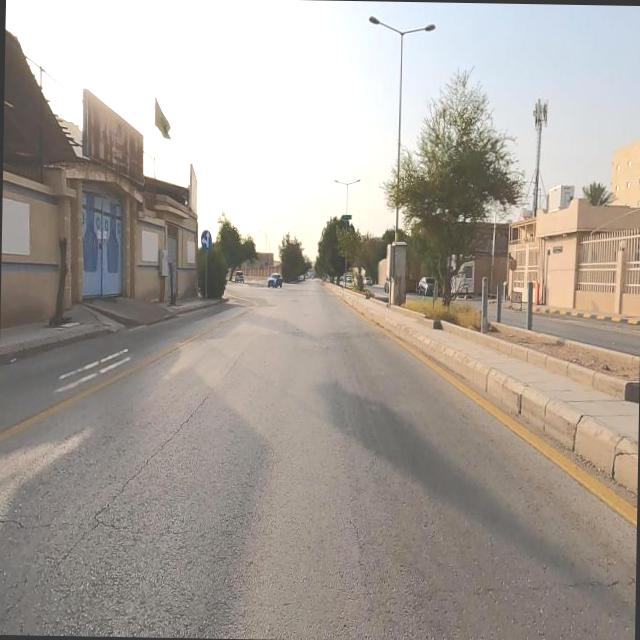debris: (46, 62, 187, 231), (496, 267, 536, 329)
